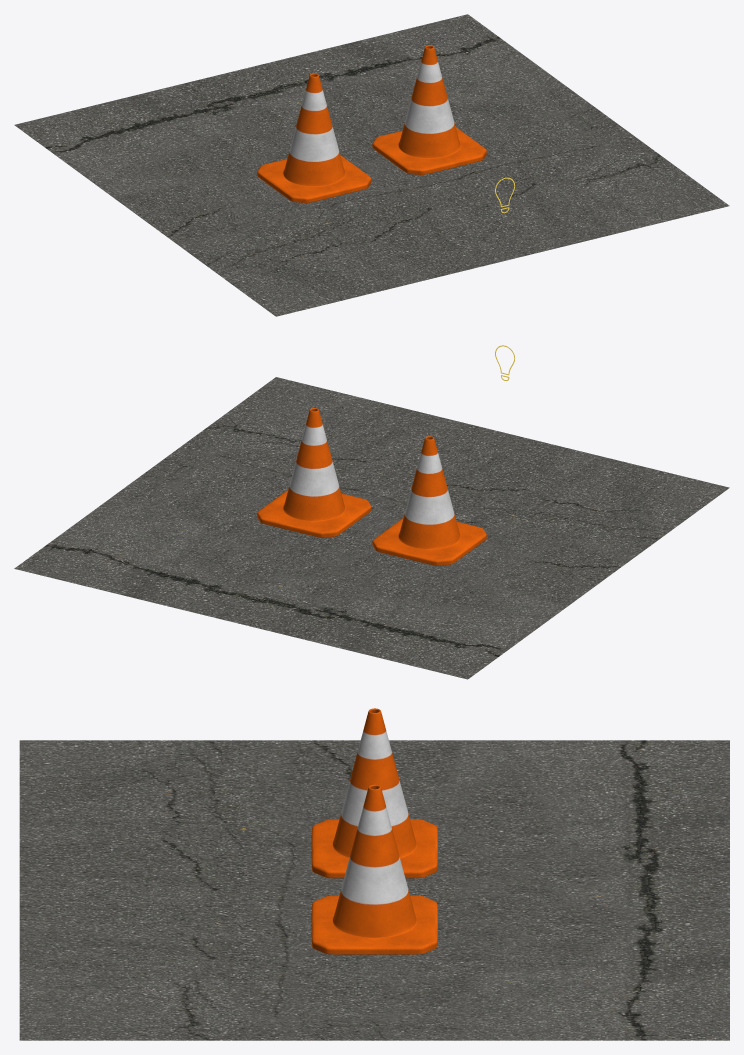
File: traffic-cone.glb
The picture shows the model from 3 angles, top to bottom: view 1: azimuth 30°, elevation 25°; view 2: azimuth 150°, elevation 25°; view 3: azimuth 270°, elevation 25°; orthographic projection. The views are drawn at different scales.
Parts seen in each view (by area): view 1: GroundPlane, Cone Retroreflection, Cone Normal; view 2: GroundPlane, Cone Normal, Cone Retroreflection; view 3: GroundPlane, Cone Normal, Cone Retroreflection.
Boxes of the visible parts, left/top/right/bottom form: GroundPlane: left=14, top=14, right=729, bottom=316; Cone Retroreflection: left=257, top=73, right=371, bottom=203; Cone Normal: left=372, top=45, right=486, bottom=174; GroundPlane: left=14, top=377, right=729, bottom=679; Cone Normal: left=257, top=408, right=371, bottom=537; Cone Retroreflection: left=372, top=436, right=486, bottom=565; GroundPlane: left=19, top=740, right=729, bottom=1040; Cone Normal: left=311, top=784, right=437, bottom=954; Cone Retroreflection: left=311, top=708, right=437, bottom=878.
Size of the model in its own units: 2.36 by 0.5193 by 2.38.
Materials: 4 (3 with a texture image).
